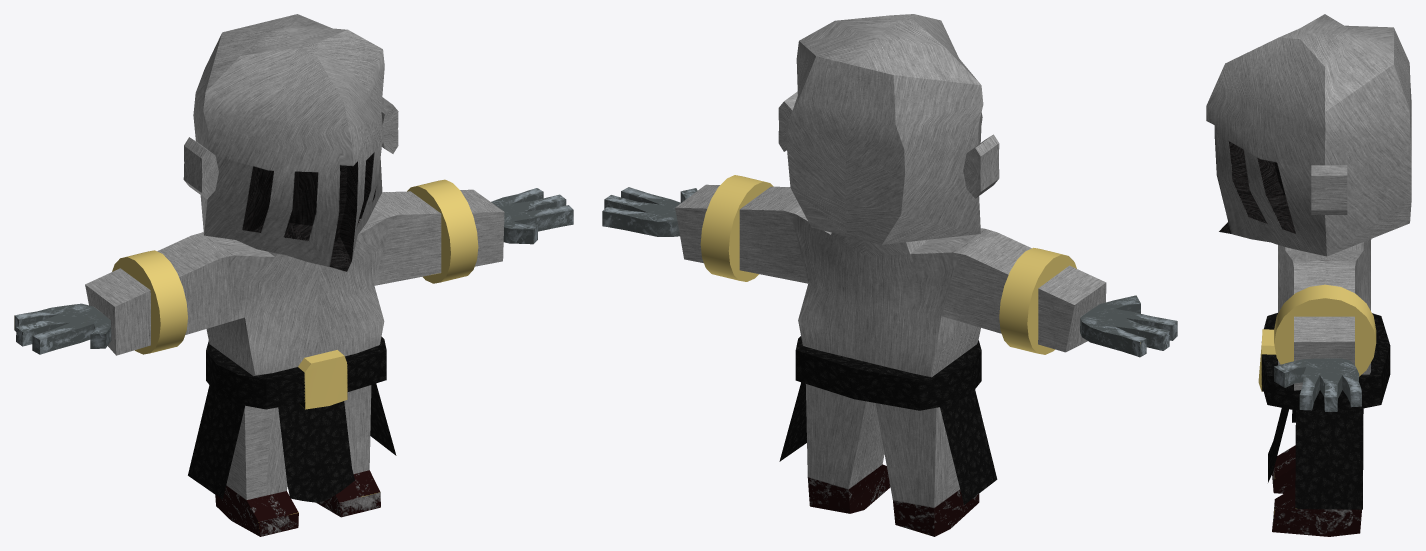
The model's file is warrior_blender.glb.
3 views of the same model, side by side, from view 1: azimuth 30°, elevation 25°; view 2: azimuth 150°, elevation 25°; view 3: azimuth 270°, elevation 25° (orthographic). The views are drawn at different scales.
Parts seen in each view (by area): view 1: guerrero; view 2: guerrero; view 3: guerrero.
Part boxes in pixels (left/top/right/bottom): guerrero: left=14, top=14, right=573, bottom=536; guerrero: left=602, top=14, right=1177, bottom=536; guerrero: left=1206, top=14, right=1411, bottom=536.
Bounding box in the file's own units: 18.95 × 15.75 × 6.18.
Materials: 1 (1 with a texture image).
